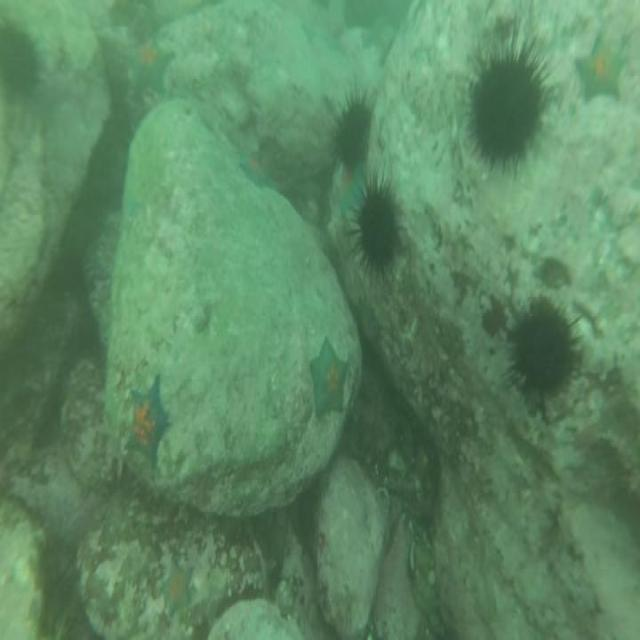echinus: (459, 30, 561, 185), (499, 286, 584, 424), (346, 176, 408, 290), (0, 19, 47, 106), (332, 87, 374, 177)
starfish: (122, 373, 172, 472), (572, 30, 626, 107), (307, 335, 350, 428), (124, 33, 175, 106), (158, 556, 196, 621), (332, 161, 369, 221), (233, 147, 274, 194)
